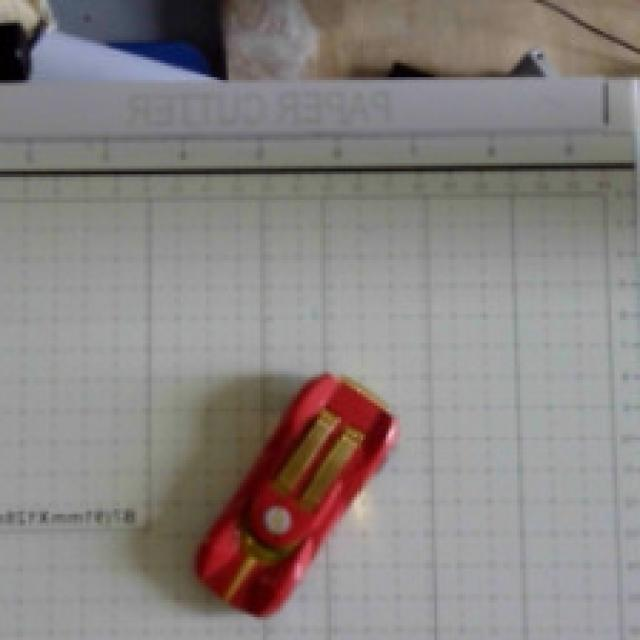Red Car: (156, 339, 446, 626)
